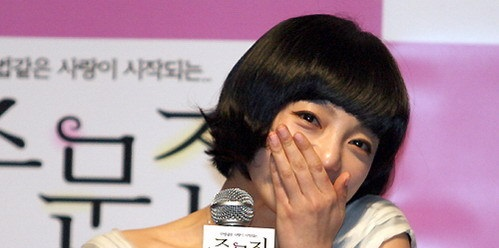face: (257, 94, 379, 222)
